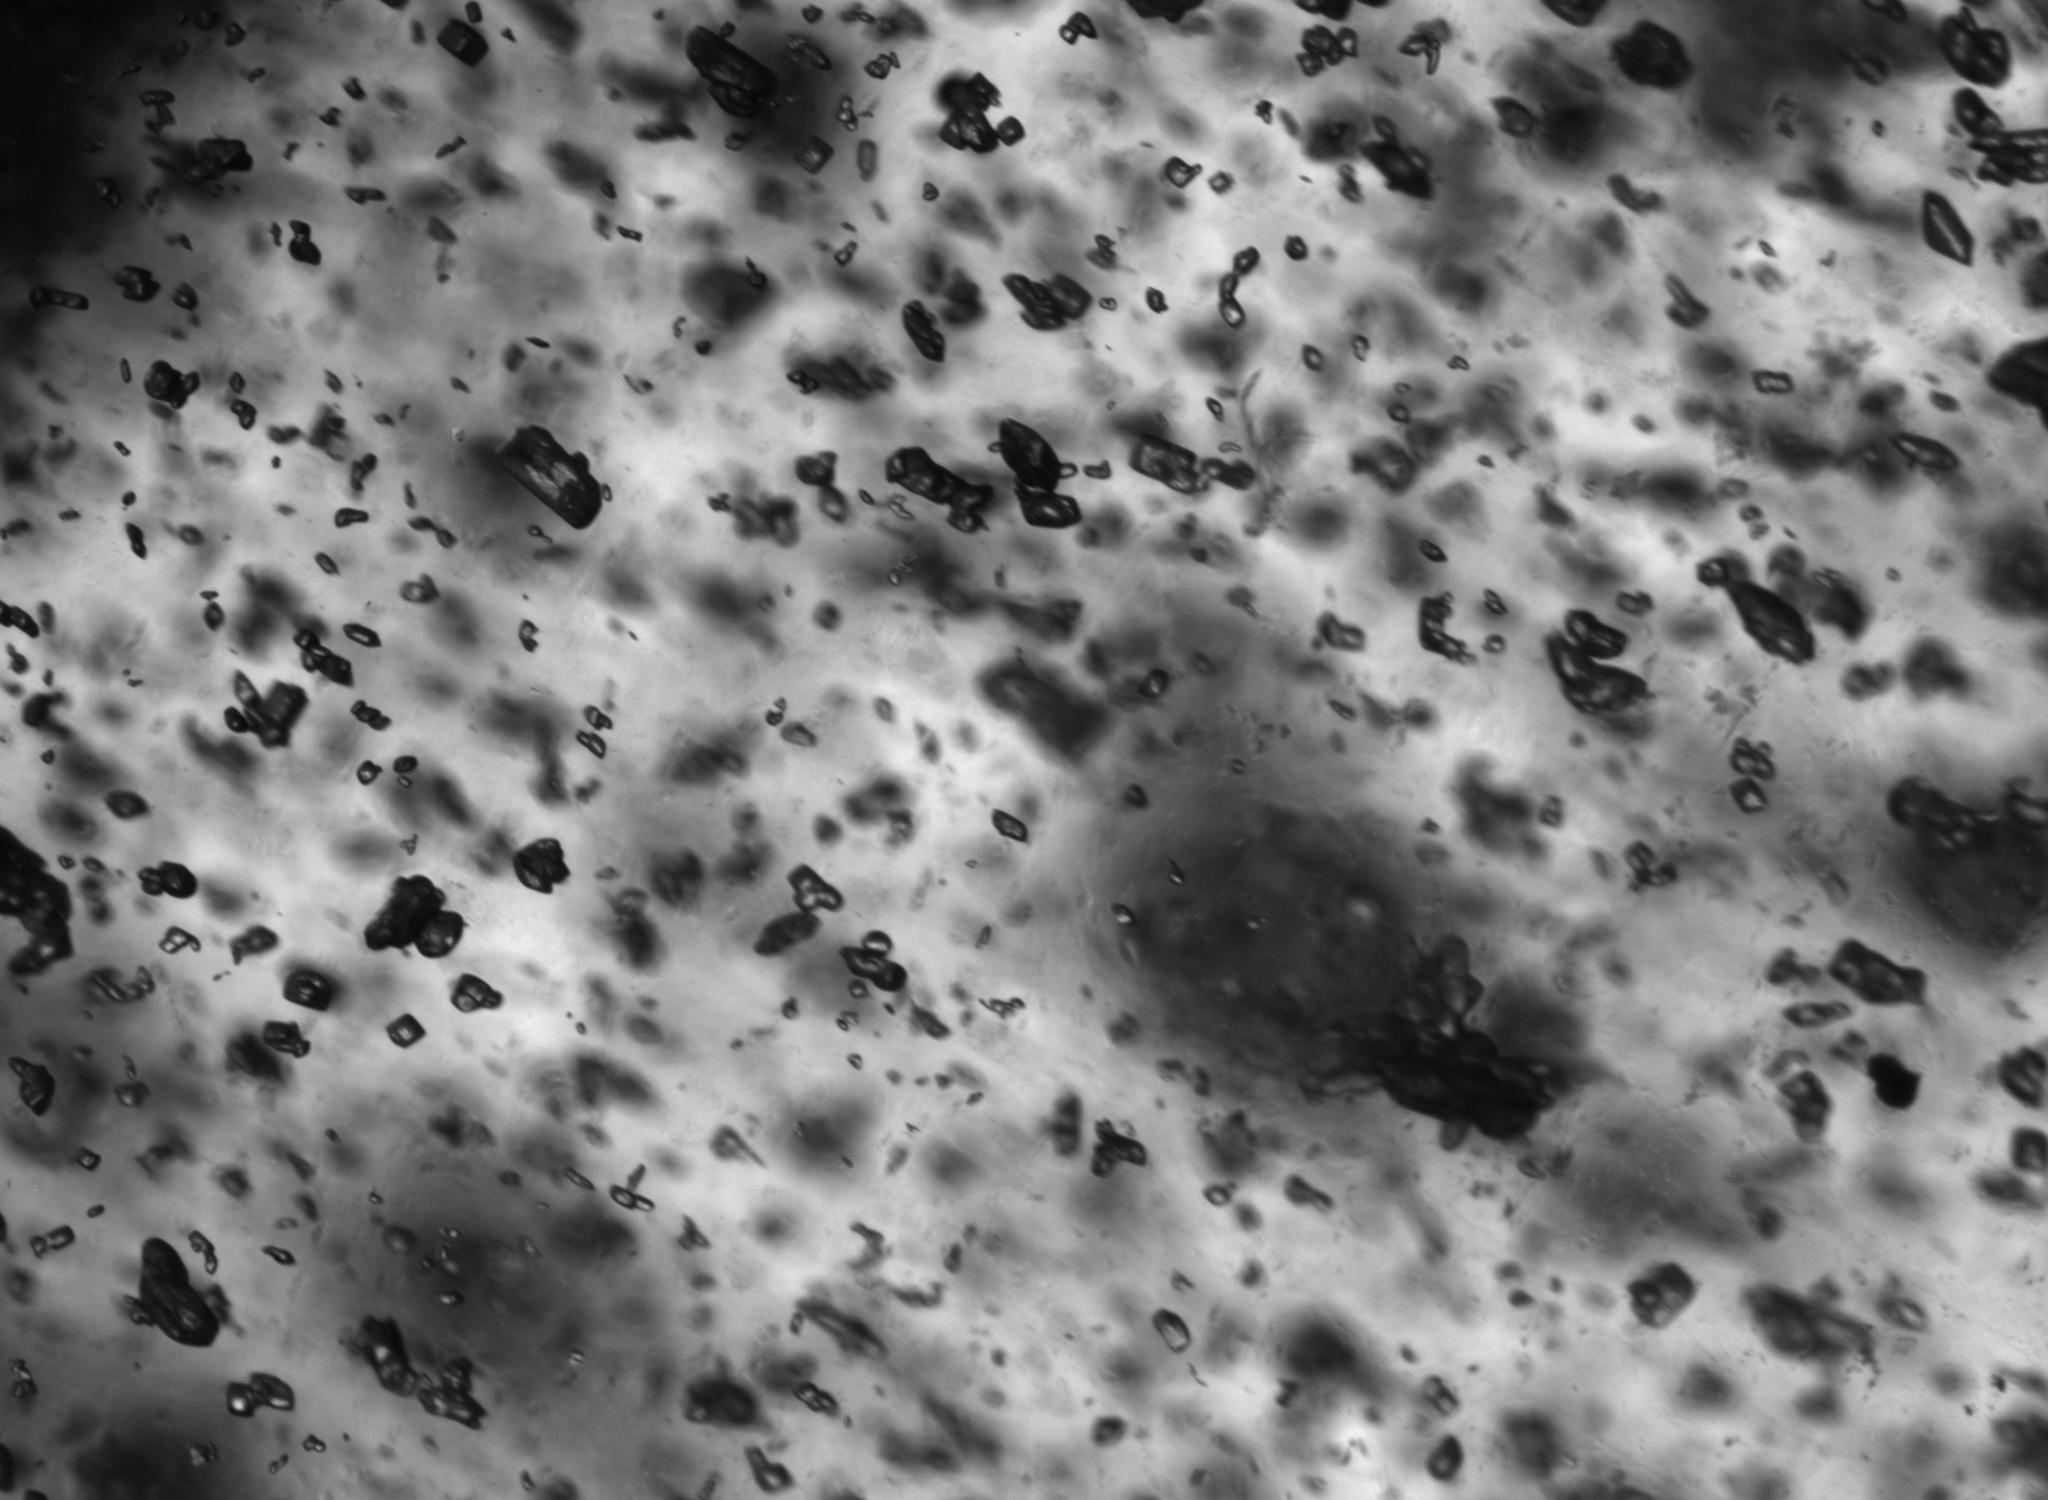crystal: (1332, 938, 1561, 1141), (355, 1319, 485, 1428), (1697, 555, 1814, 662), (495, 425, 606, 530), (0, 826, 72, 975), (1546, 609, 1647, 714), (129, 1238, 227, 1346), (992, 420, 1081, 528), (1953, 87, 2048, 185), (887, 447, 995, 531), (687, 27, 778, 119), (364, 875, 464, 958), (1131, 433, 1256, 495), (1724, 579, 1814, 663), (937, 73, 1022, 153), (224, 671, 308, 748), (1829, 940, 1926, 1004), (1940, 8, 2010, 86), (353, 1315, 420, 1397), (1612, 21, 1690, 87), (157, 135, 253, 189), (1003, 274, 1092, 331), (887, 447, 978, 503), (1627, 1261, 1697, 1328), (1364, 132, 1431, 197), (840, 931, 908, 994), (1417, 592, 1476, 663), (293, 624, 355, 687), (1921, 191, 1973, 266), (795, 452, 849, 522), (1779, 1069, 1830, 1141), (1728, 738, 1776, 811), (1218, 247, 1261, 328), (512, 838, 569, 894), (1091, 1120, 1146, 1176), (226, 1373, 294, 1417), (1299, 24, 1356, 75), (143, 359, 200, 409), (902, 301, 946, 363), (1868, 1055, 1919, 1109), (283, 964, 340, 1012), (789, 864, 843, 913), (1892, 433, 1959, 472), (11, 1058, 54, 1115), (1399, 22, 1447, 73), (437, 19, 488, 65), (1665, 275, 1709, 328), (744, 1448, 793, 1494), (92, 969, 153, 1005), (138, 862, 197, 899), (450, 973, 502, 1012), (576, 706, 612, 759), (1784, 1001, 1852, 1028), (1151, 1308, 1193, 1352), (1317, 612, 1364, 651), (1425, 1435, 1463, 1481), (113, 266, 161, 302), (262, 1021, 308, 1058), (792, 1381, 838, 1416), (27, 1225, 75, 1258), (789, 37, 833, 72), (29, 285, 89, 310), (0, 600, 41, 636), (288, 221, 321, 266), (188, 1228, 219, 1274), (795, 135, 833, 173), (385, 1013, 426, 1048), (105, 789, 149, 821), (410, 515, 455, 547), (773, 717, 817, 748), (350, 698, 391, 730), (157, 926, 200, 954), (1135, 668, 1170, 703), (991, 810, 1029, 841), (11, 1357, 37, 1405), (609, 1185, 655, 1210), (114, 1074, 149, 1107), (1164, 157, 1200, 189), (1059, 13, 1097, 43), (348, 453, 377, 493), (401, 574, 439, 603), (1088, 234, 1118, 269), (1752, 369, 1794, 394), (865, 51, 900, 80), (229, 398, 258, 429), (1616, 592, 1654, 616), (1754, 371, 1792, 394), (983, 997, 1026, 1018), (343, 624, 380, 647), (787, 369, 820, 394), (561, 1169, 596, 1193), (172, 282, 199, 312), (334, 506, 369, 528), (204, 593, 224, 630), (517, 619, 539, 652), (838, 95, 859, 130), (434, 135, 466, 157), (126, 523, 146, 557), (1482, 589, 1507, 616), (73, 1147, 102, 1171), (763, 697, 787, 725), (347, 186, 385, 204), (393, 756, 418, 781), (1420, 539, 1447, 563), (1204, 1183, 1232, 1206), (1283, 235, 1309, 259), (1302, 345, 1325, 372), (1145, 288, 1169, 312), (1388, 401, 1412, 425), (342, 76, 366, 100), (315, 552, 340, 574), (1208, 172, 1234, 194), (1350, 336, 1371, 361), (1111, 905, 1134, 926), (267, 1249, 296, 1265), (1205, 398, 1224, 422), (301, 1435, 326, 1452), (436, 1290, 463, 1306), (619, 224, 642, 242), (1447, 355, 1469, 372), (803, 5, 824, 22), (781, 997, 798, 1018), (846, 1053, 863, 1071), (358, 768, 374, 786)
